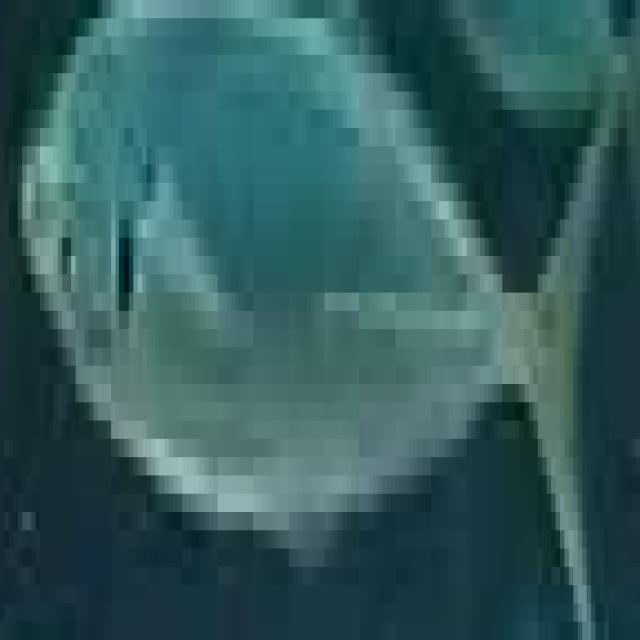fish: (0, 0, 636, 622)
